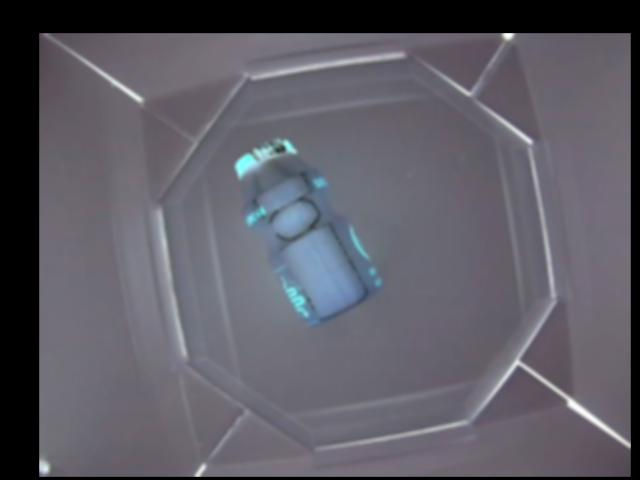Bottle: (228, 139, 383, 328)
